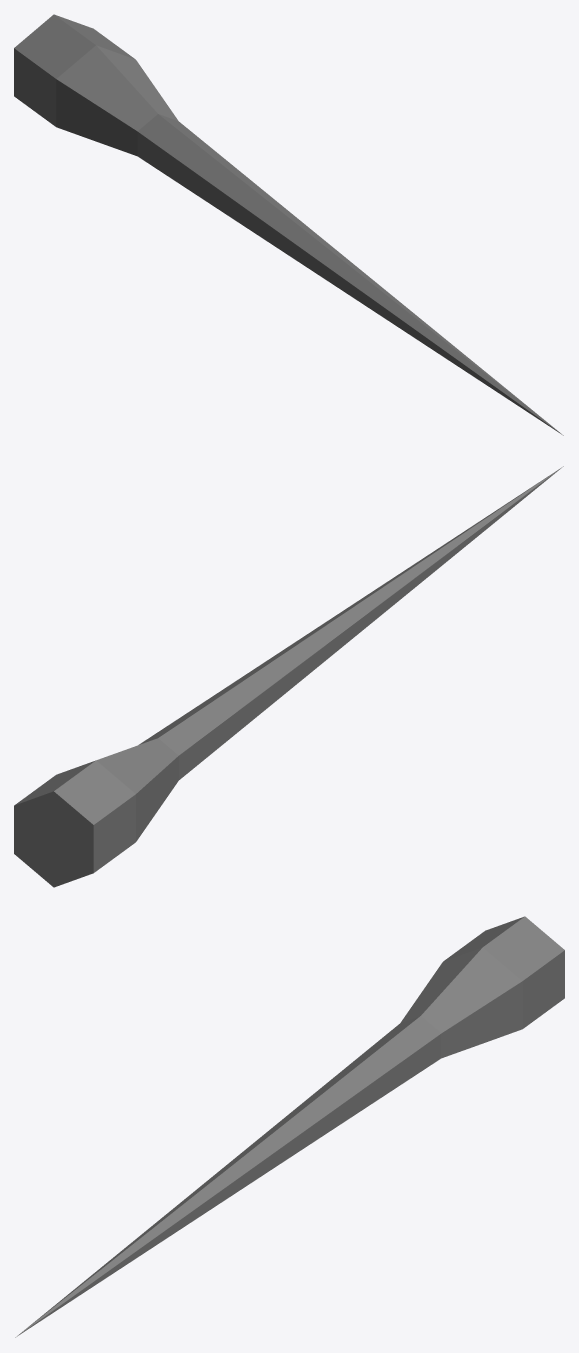
File: Basic_gun_Bullet.fbx
3 views of the same model, one above another, from view 1: azimuth 30°, elevation 25°; view 2: azimuth 150°, elevation 25°; view 3: azimuth 330°, elevation 25° (orthographic).
Visible parts, largest first — view 1: Bullet; view 2: Bullet; view 3: Bullet.
Boxes of the visible parts, box(x1,y1,x2,y2) form: Bullet: box(14, 14, 563, 435); Bullet: box(14, 466, 563, 887); Bullet: box(15, 916, 564, 1337).
Bounding box in the file's own units: 2.31 × 2.67 × 25.65.
Materials: 1 (1 with a texture image).
